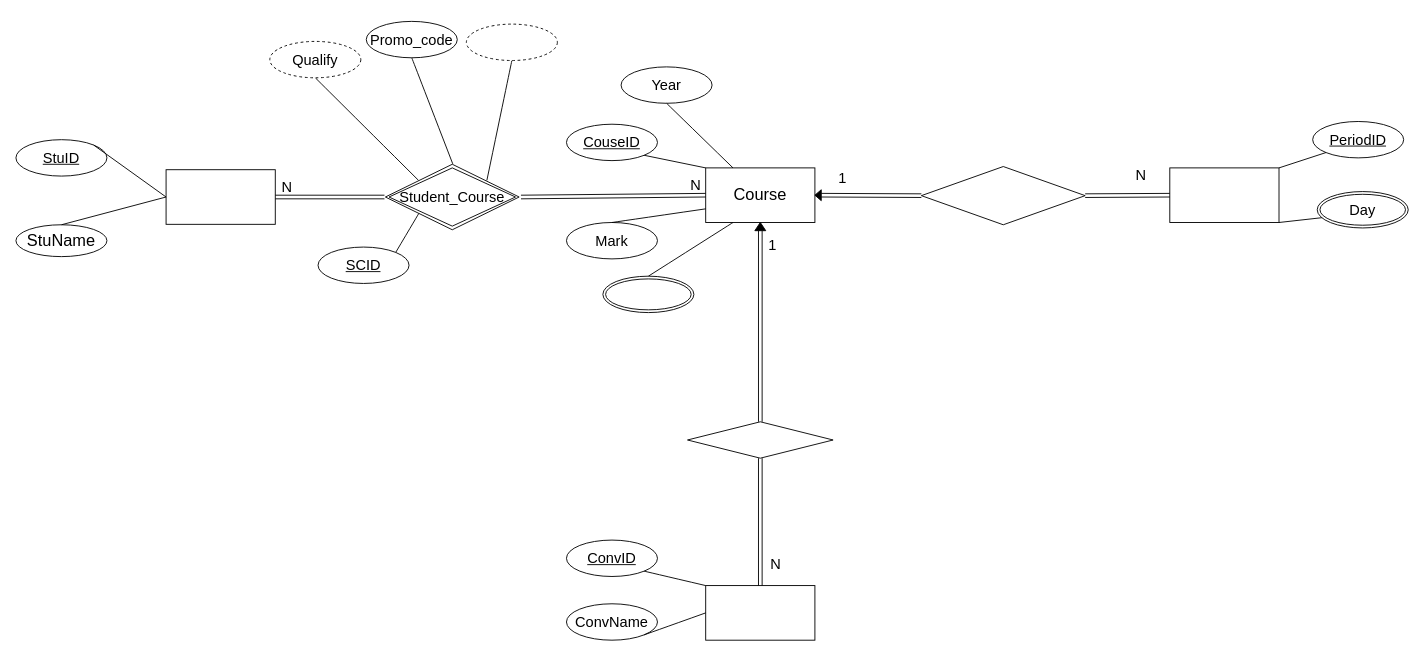
The diagram is 1424 pixels wide and 656 high, and some of its shapes have lost their labels. The centre of each missing label's shape, as x and y in pixels:
"Convenes" belongs at point 760,439.
"Convenor" belongs at point 760,612.
"Happens" belongs at point 1002,195.
"Period" belongs at point 1224,194.
"Prereq" belongs at point 648,294.
"Student" belongs at point 220,196.
"Symbol" belongs at point 511,42.
